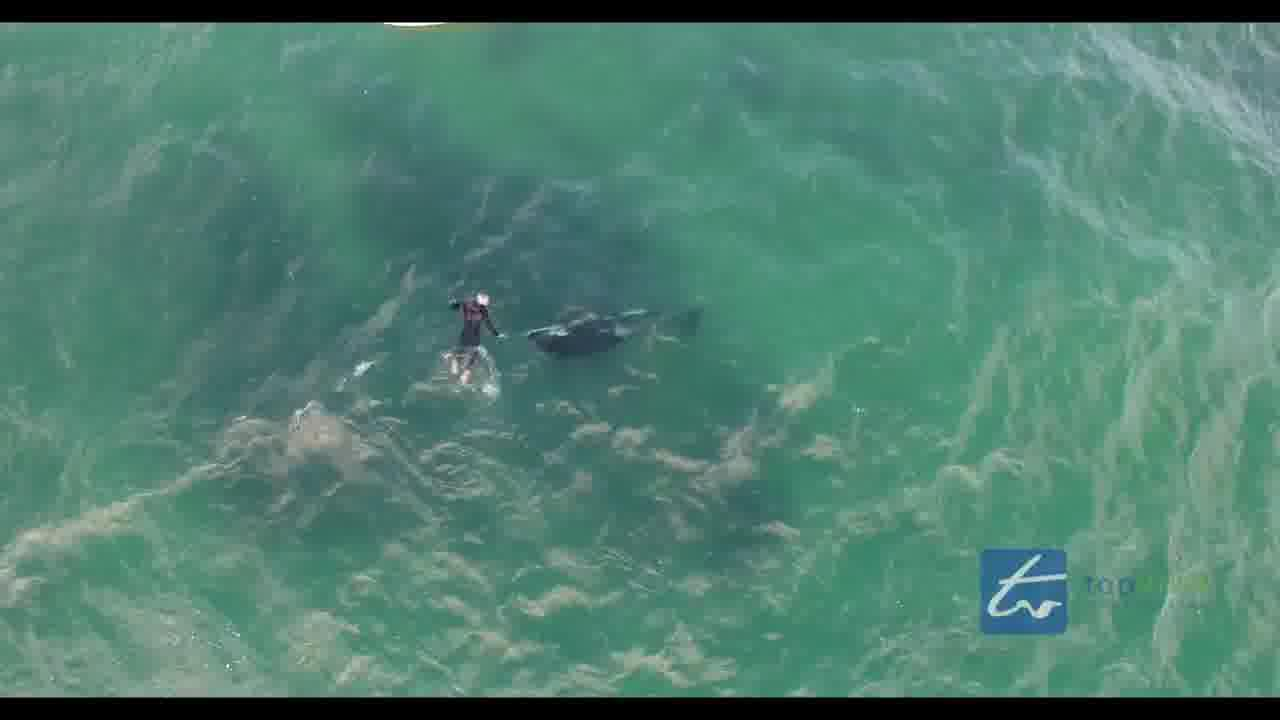swimmer: (451, 277, 494, 385)
